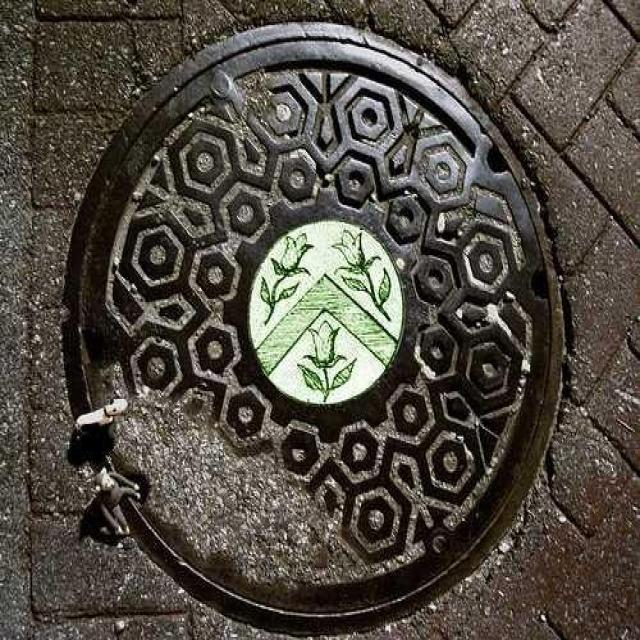manhole: (66, 24, 562, 629)
